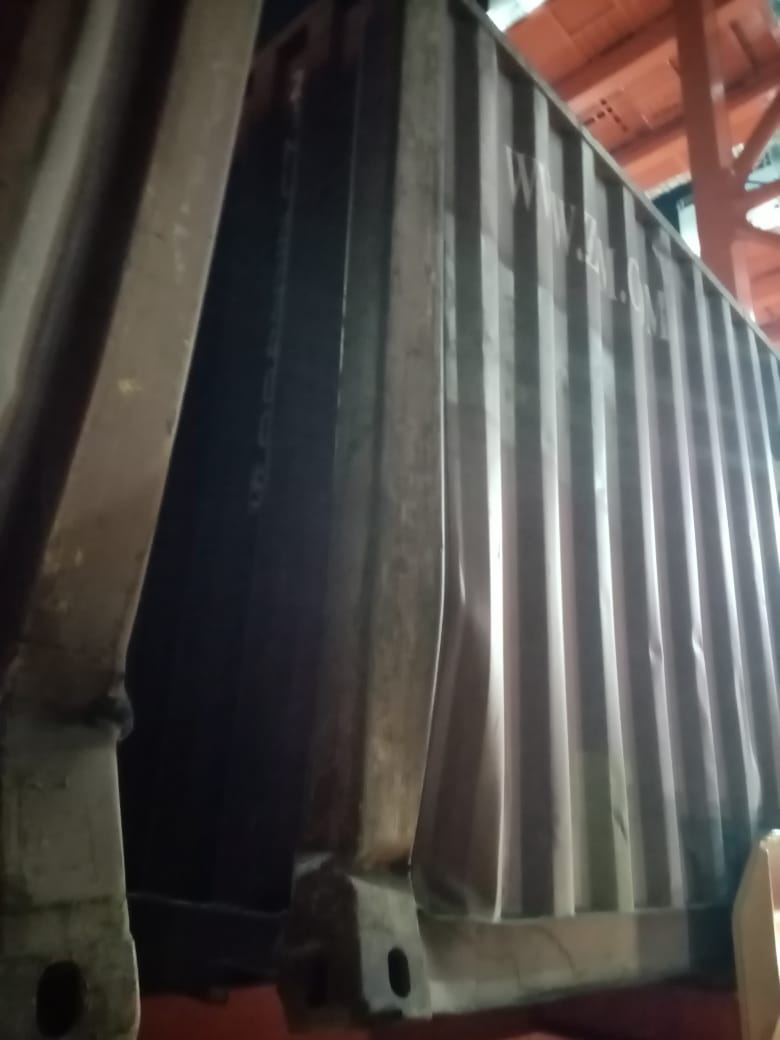bulged: (380, 469, 552, 759)
dented: (338, 821, 500, 1002)
